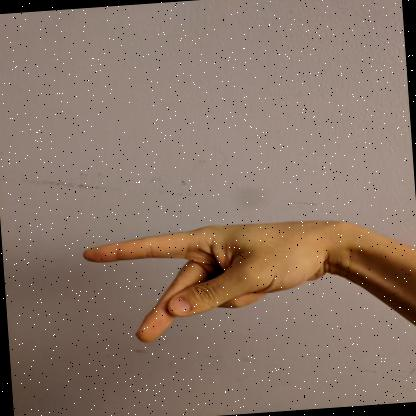P: (83, 220, 339, 342)
